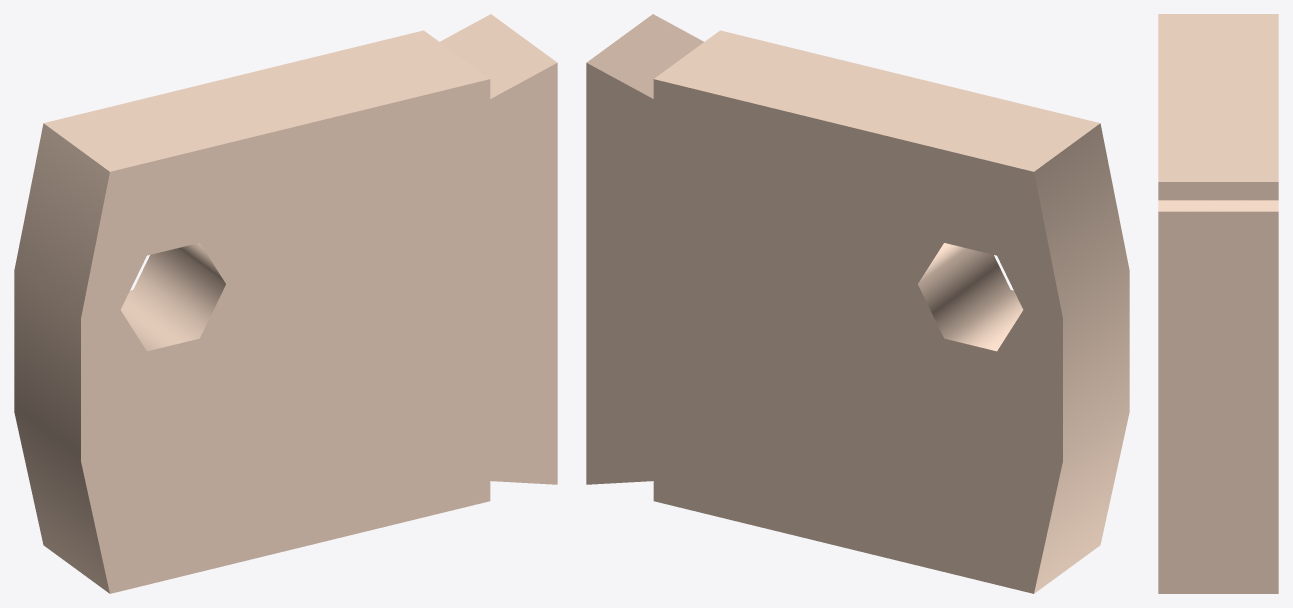
File: Pont Grande moyenne avant.obj
3 views of the same model, side by side, from view 1: azimuth 30°, elevation 25°; view 2: azimuth 150°, elevation 25°; view 3: azimuth 270°, elevation 25° (orthographic). The views are drawn at different scales.
Parts seen in each view (by area): view 1: Face_10, Face_6, Face_7, Face_11, Face_1; view 2: Face_9, Face_6, Face_7, Face_11, Face_1; view 3: Face_2, Face_7, Face_8, Face_1.
Boxes of the visible parts, x1,y1,x2,y2 form: Face_10: (81, 63, 557, 593); Face_6: (14, 123, 109, 593); Face_7: (44, 30, 489, 171); Face_11: (120, 243, 225, 351); Face_1: (440, 14, 557, 98); Face_9: (586, 63, 1062, 593); Face_6: (1034, 123, 1129, 593); Face_7: (654, 30, 1099, 171); Face_11: (918, 243, 1023, 351); Face_1: (586, 14, 703, 98); Face_2: (1158, 211, 1278, 593); Face_7: (1158, 14, 1278, 181); Face_8: (1158, 182, 1278, 200); Face_1: (1158, 200, 1278, 211).
Size of the model in its own units: 0.0248 by 0.021 by 0.006.
